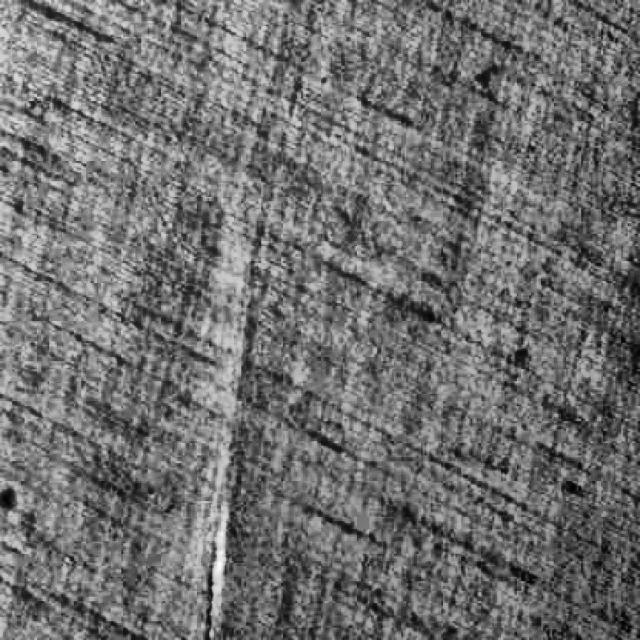thread_error: (183, 483, 248, 640)
